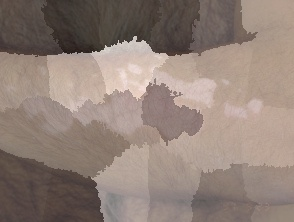vitiligo: (0, 30, 277, 165)
